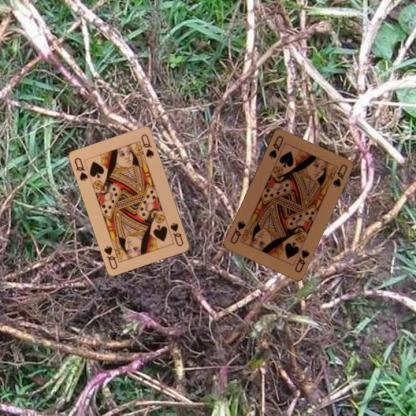Qs: (292, 247, 311, 273), (167, 220, 185, 247), (72, 155, 90, 182), (266, 133, 284, 160)
